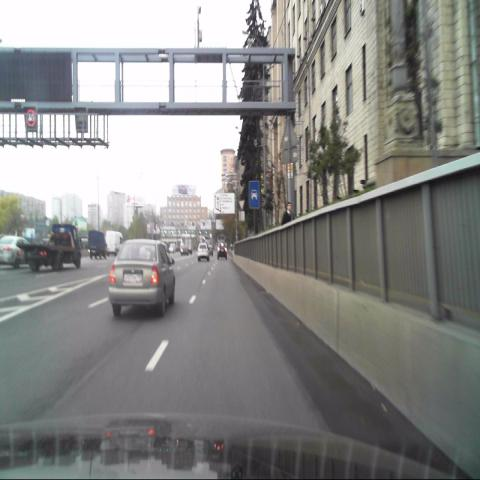5_3: (249, 180, 260, 207)
